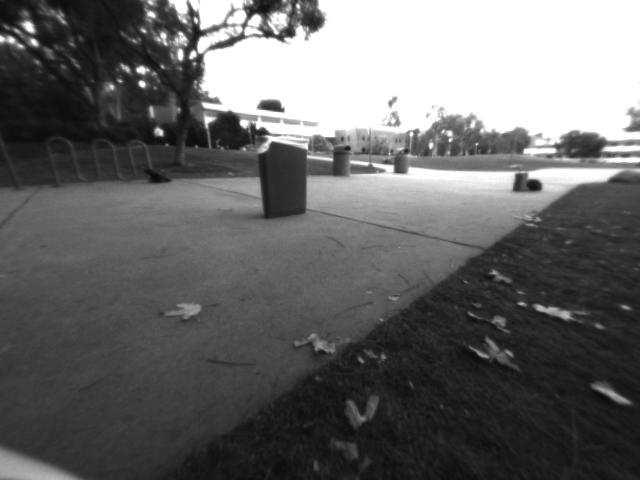trashcan_open: (253, 133, 311, 220)
